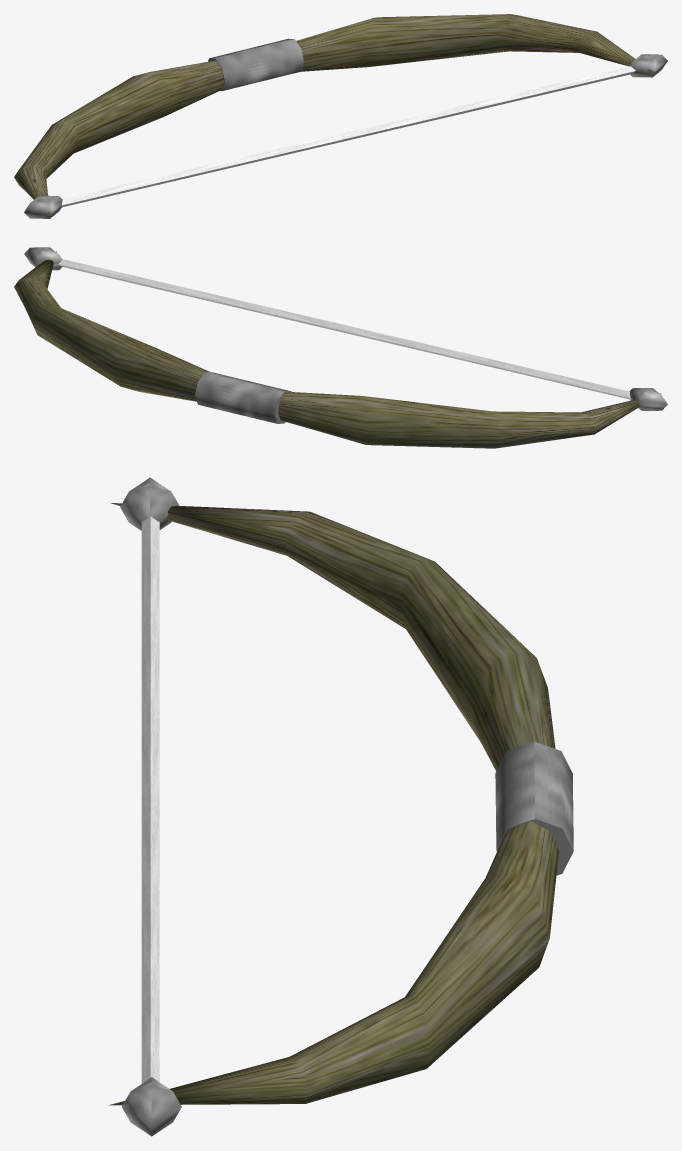
Rendered from longbow.obj.
3 renders of one model, top to bottom at view 1: azimuth 30°, elevation 25°; view 2: azimuth 150°, elevation 25°; view 3: azimuth 270°, elevation 25°, orthographic. The views are drawn at different scales.
Parts seen in each view (by area): view 1: Cylinder02, Box01, Cylinder03, Duplicate01, Sphere01; view 2: Cylinder02, Box01, Cylinder03, Duplicate01, Sphere01; view 3: Cylinder02, Box01, Cylinder03, Sphere01, Duplicate01.
Boxes of the visible parts, x1,y1,x2,y2 form: Cylinder02: (14,14,656,215); Box01: (61,66,635,207); Cylinder03: (208,38,304,90); Duplicate01: (24,195,62,218); Sphere01: (630,54,667,77); Cylinder02: (14,251,661,448); Box01: (58,259,630,399); Cylinder03: (195,372,291,423); Duplicate01: (629,388,667,410); Sphere01: (24,247,62,270); Cylinder02: (109,502,558,1105); Box01: (141,516,159,1083); Cylinder03: (495,741,573,875); Sphere01: (122,1077,181,1136); Duplicate01: (120,477,179,530).
Size of the model in its own units: 26.35 by 1.94 by 8.26.
